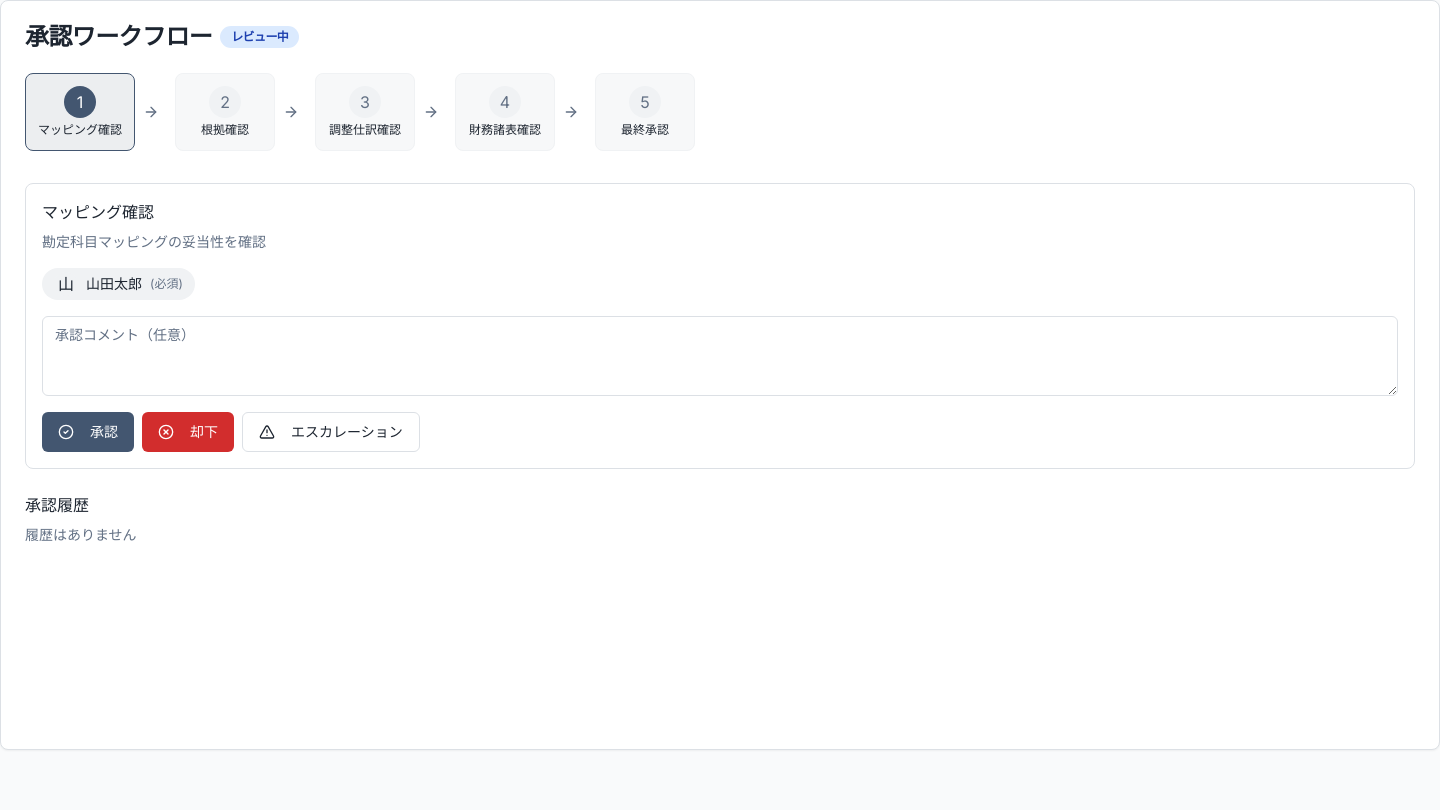
conversion/approval-workflow — reject flow › opens the reject dialog when the reject button is clicked
The width and height of the screenshot is (1440, 810).
Click the button "却下": click(188, 432) 142,412 -> 234,452
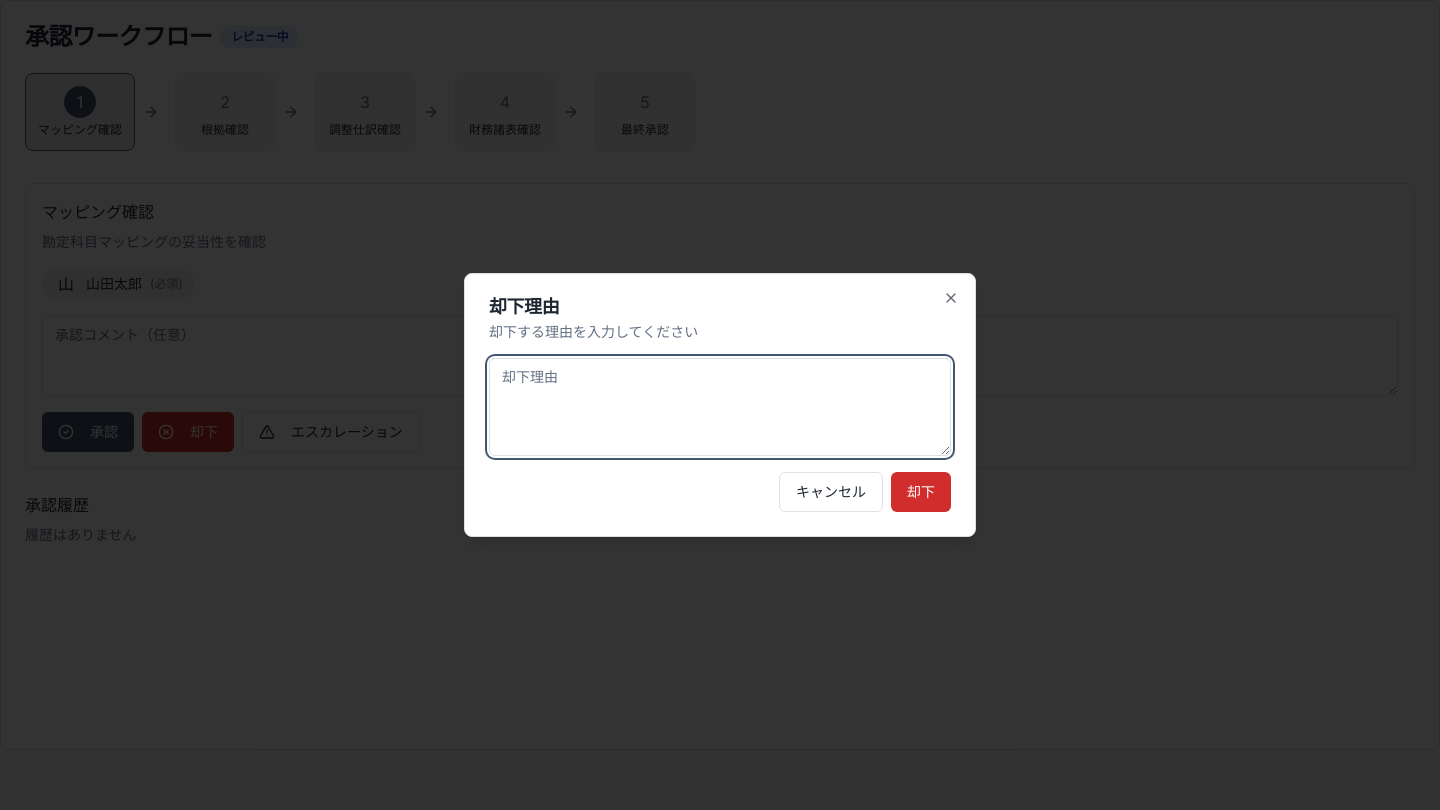
Expected: the heading "却下理由" is shown, 489,296 -> 559,317
Expected: the button "却下" is shown, 891,472 -> 951,512
